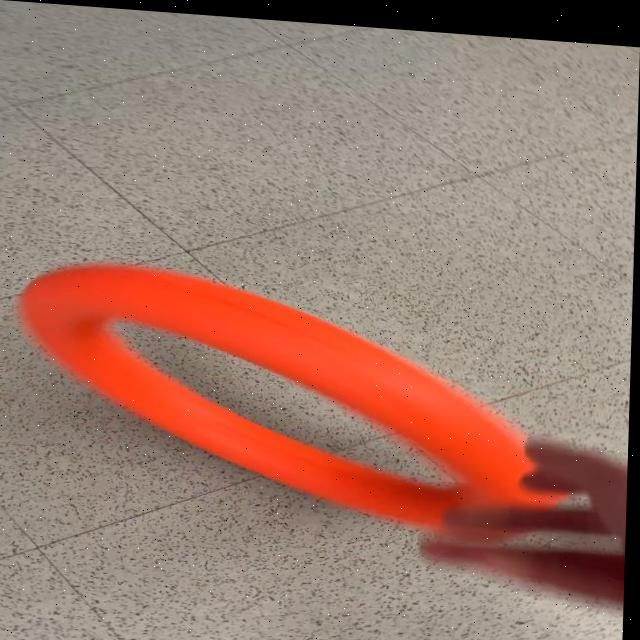note: (12, 252, 582, 541)
